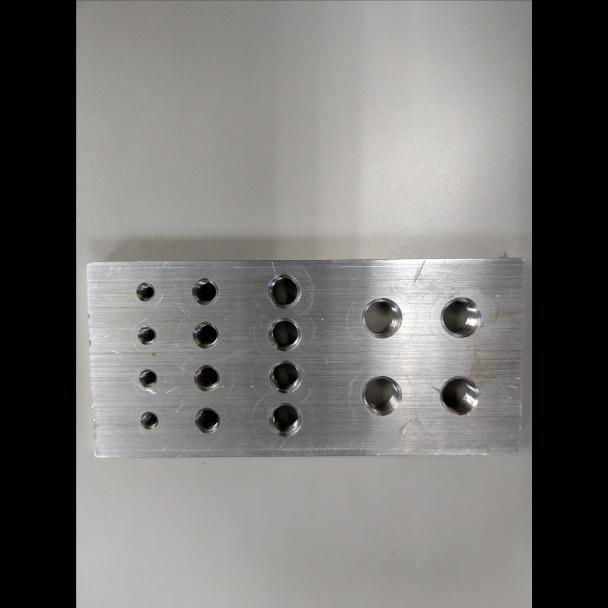hole: (438, 295, 482, 338), (359, 296, 402, 339), (360, 374, 402, 416), (438, 374, 479, 416), (266, 401, 303, 438), (265, 316, 302, 352), (266, 272, 302, 309), (267, 359, 303, 394), (190, 320, 220, 349), (189, 277, 219, 305), (193, 405, 221, 434), (191, 364, 220, 392), (134, 281, 155, 302), (137, 368, 158, 388), (136, 324, 156, 345), (139, 410, 158, 430)
